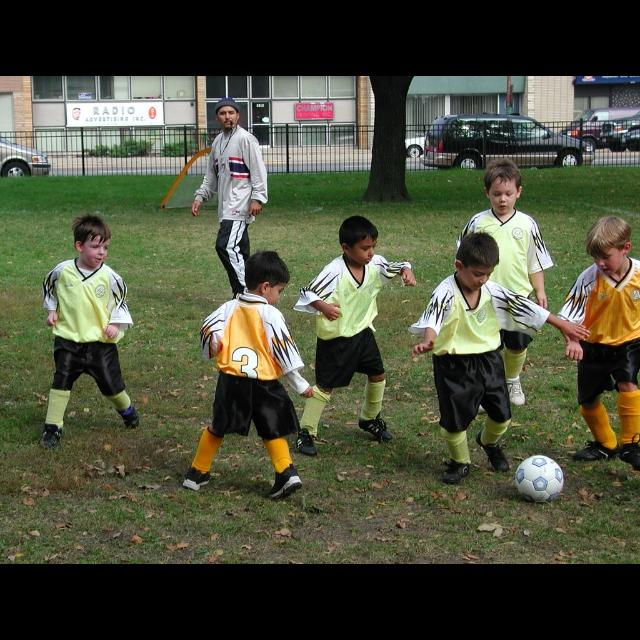Football: (514, 453, 562, 503)
